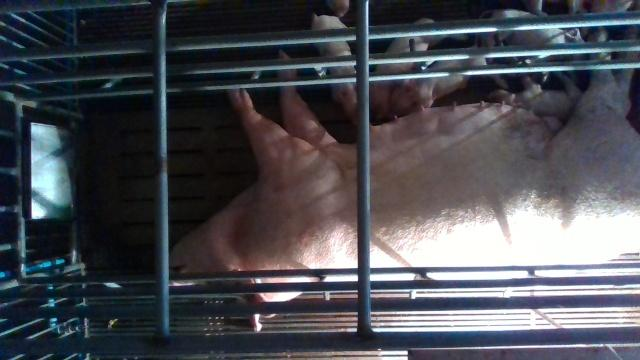piglet: (369, 18, 471, 123), (392, 50, 509, 118), (482, 7, 585, 62), (312, 13, 358, 124), (484, 73, 583, 118)
sow-sleep-lactate: (170, 53, 640, 332)
